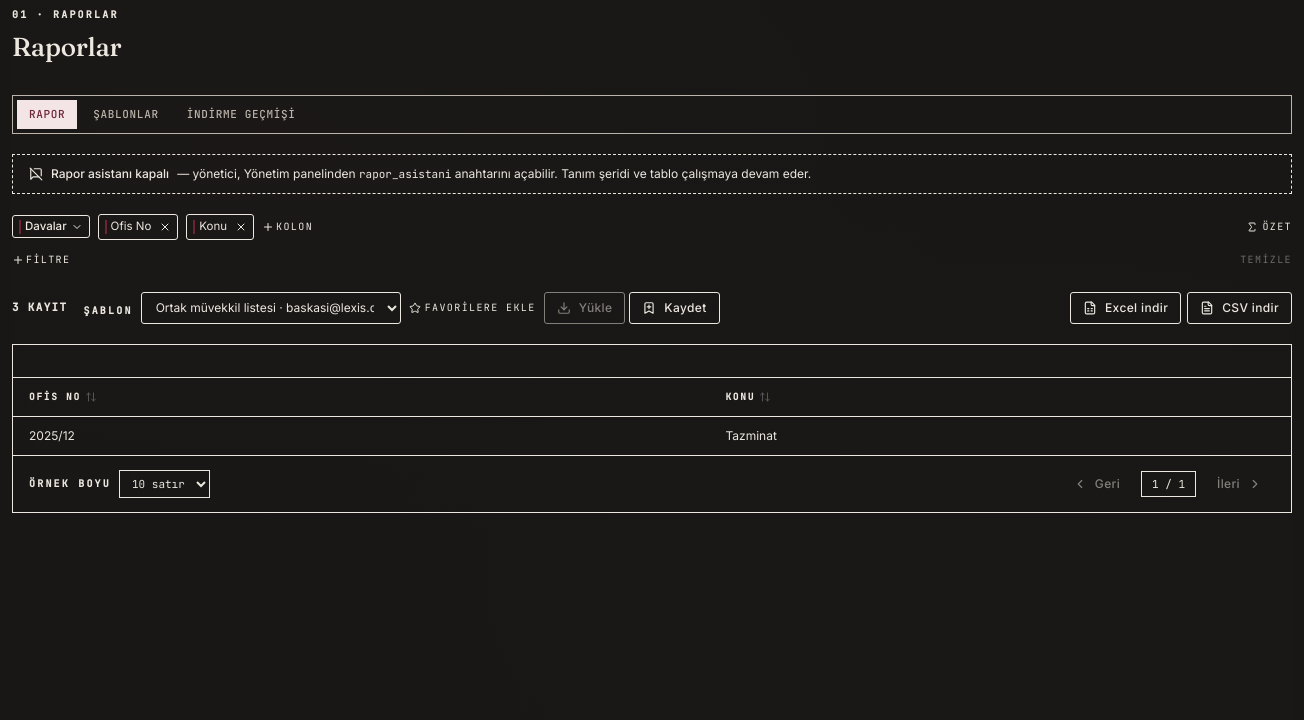
ReportsPage şablon / indirme / geçmiş (G134/G138) › başkasının paylaşımlı şablonunda Güncelle/Sil yok, sahibi rozeti görünür; kendi şablonunda var
The width and height of the screenshot is (1304, 720).
Select "Ortak müvekkil listesi · baskasi@lexis.com.tr" in the dropdown with id "rapor-sablon" at (271, 308), box [141,292,401,324]
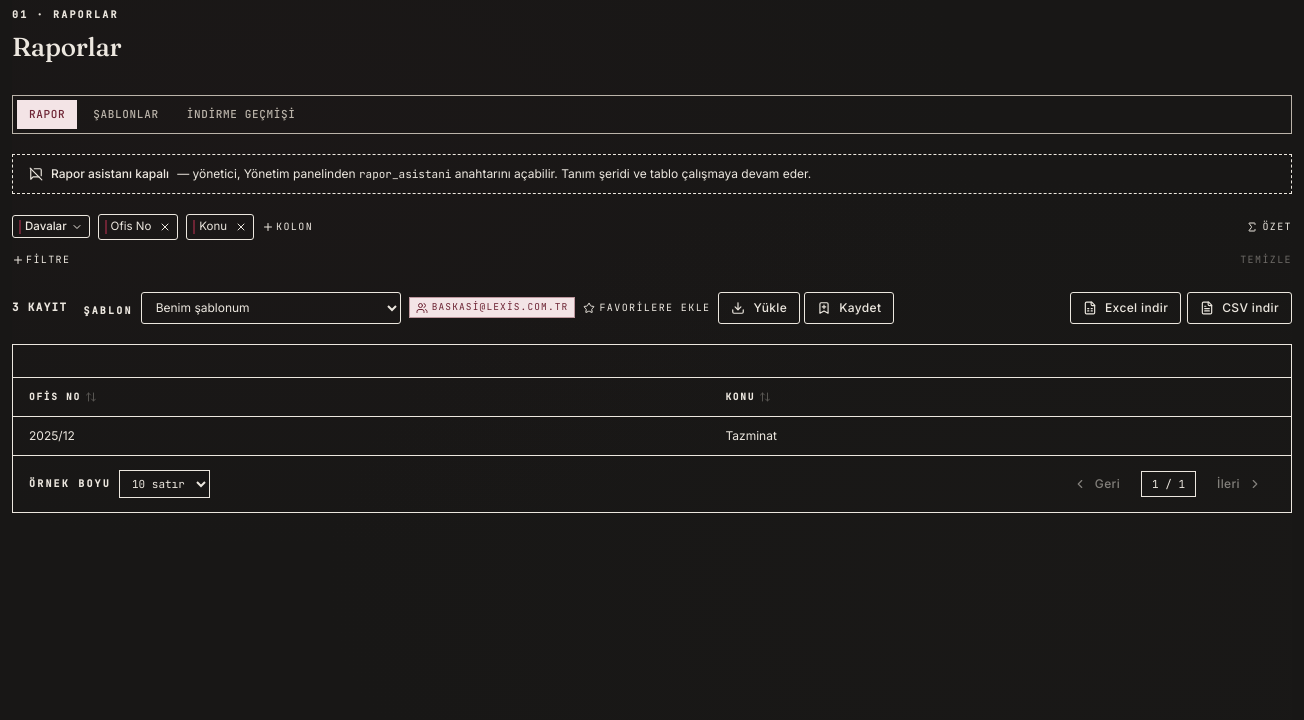
Expected: the element with test id "paylasimli-rozeti" reads "baskasi@lexis.com.tr", [432,300,568,313]
Select "Benim şablonum" in the dropdown with id "rapor-sablon" at (271, 308), box [141,292,401,324]
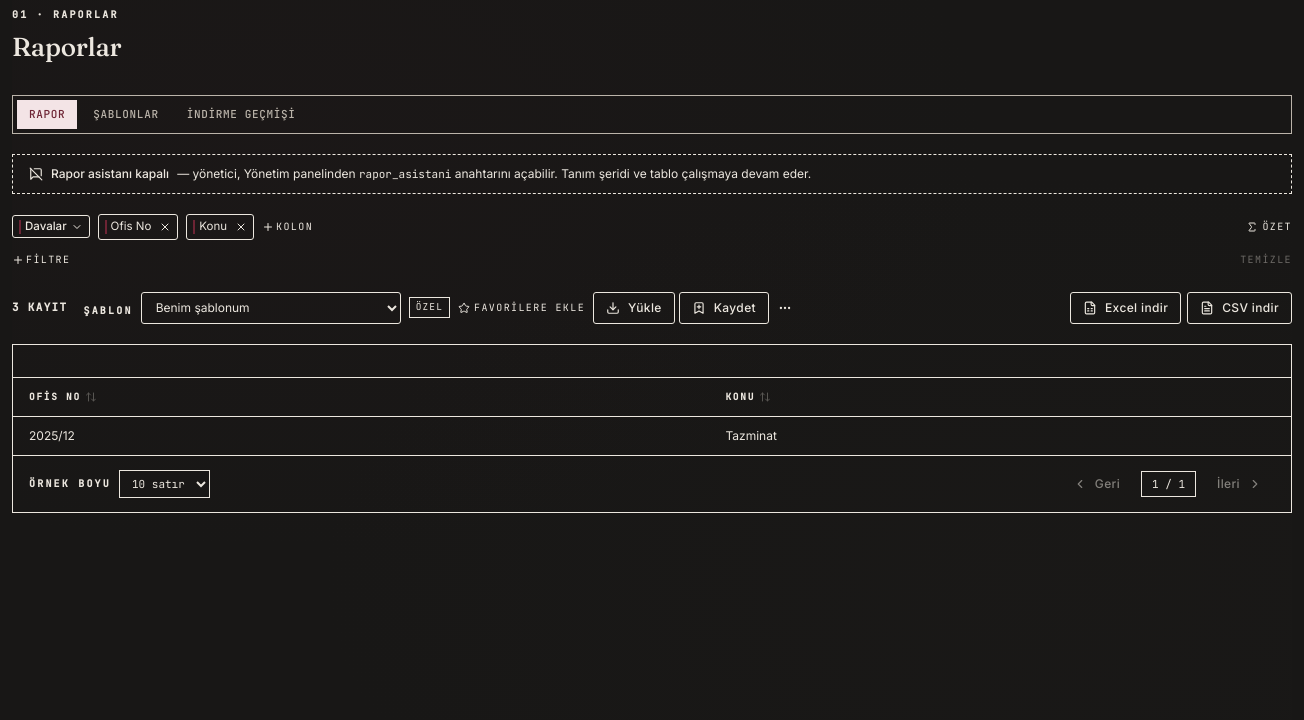
Expected: the button with test id "sablon-menu" is shown
Press the mouse on the button with test id "sablon-menu" at (785, 308), box [773,296,797,320]
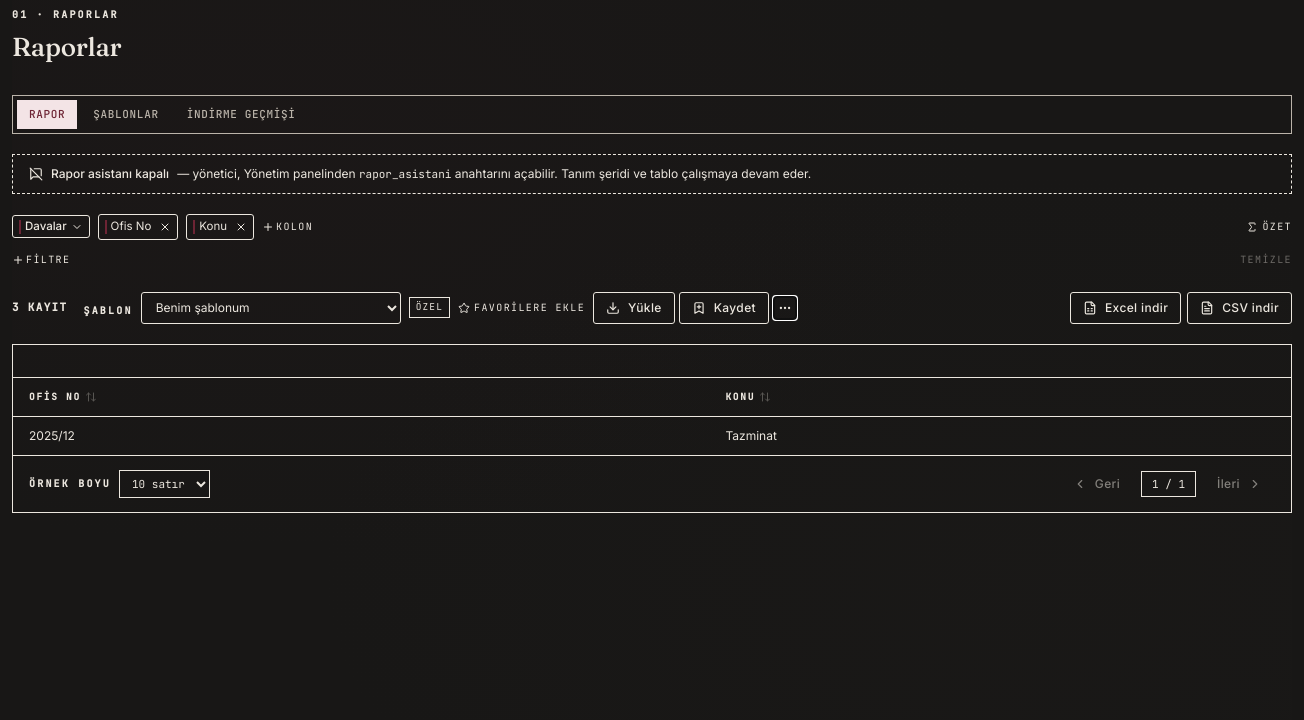
Press the mouse on the tab "Şablonlar" at (126, 114), box [81,100,171,128]
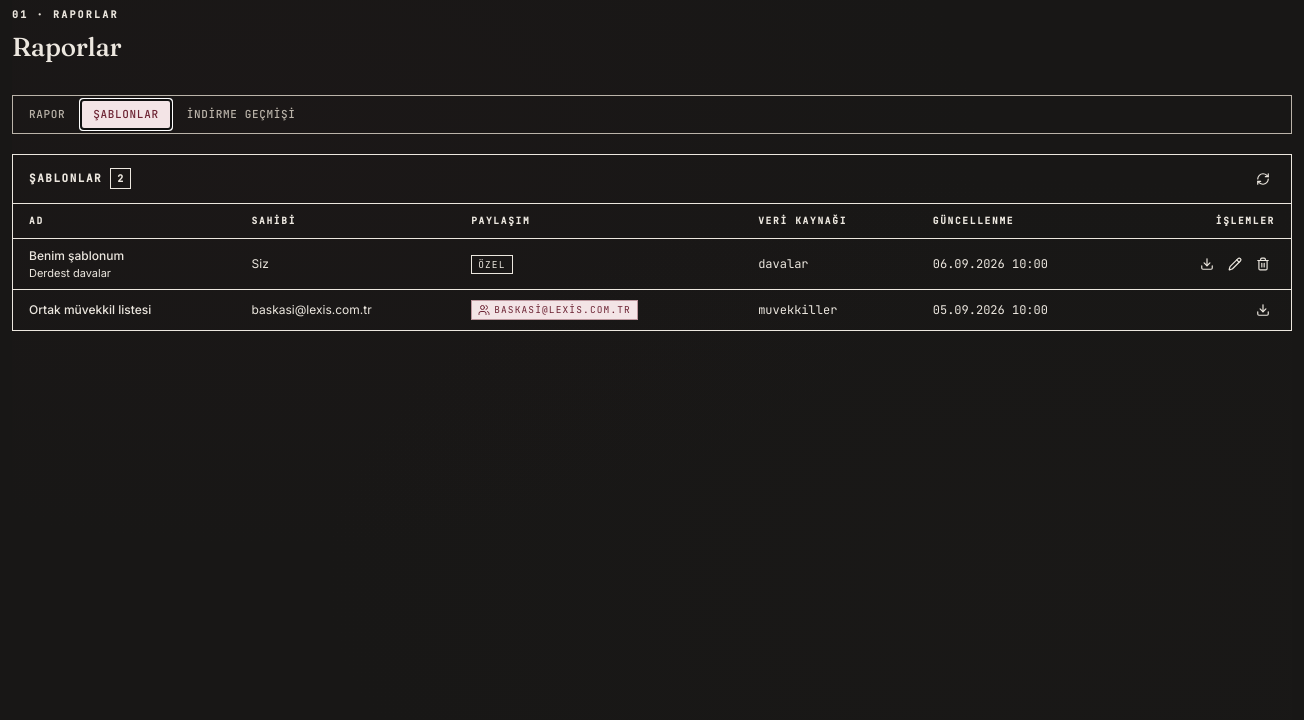
Expected: the button named "Ortak müvekkil listesi yükle" is shown, [1251,298,1275,322]
Expected: the row with test id "sablon-satiri" shows "baskasi@lexis.com.tr", [252,302,372,317]
Expected: the button named "Benim şablonum düzenle" is shown, [1223,252,1247,276]
